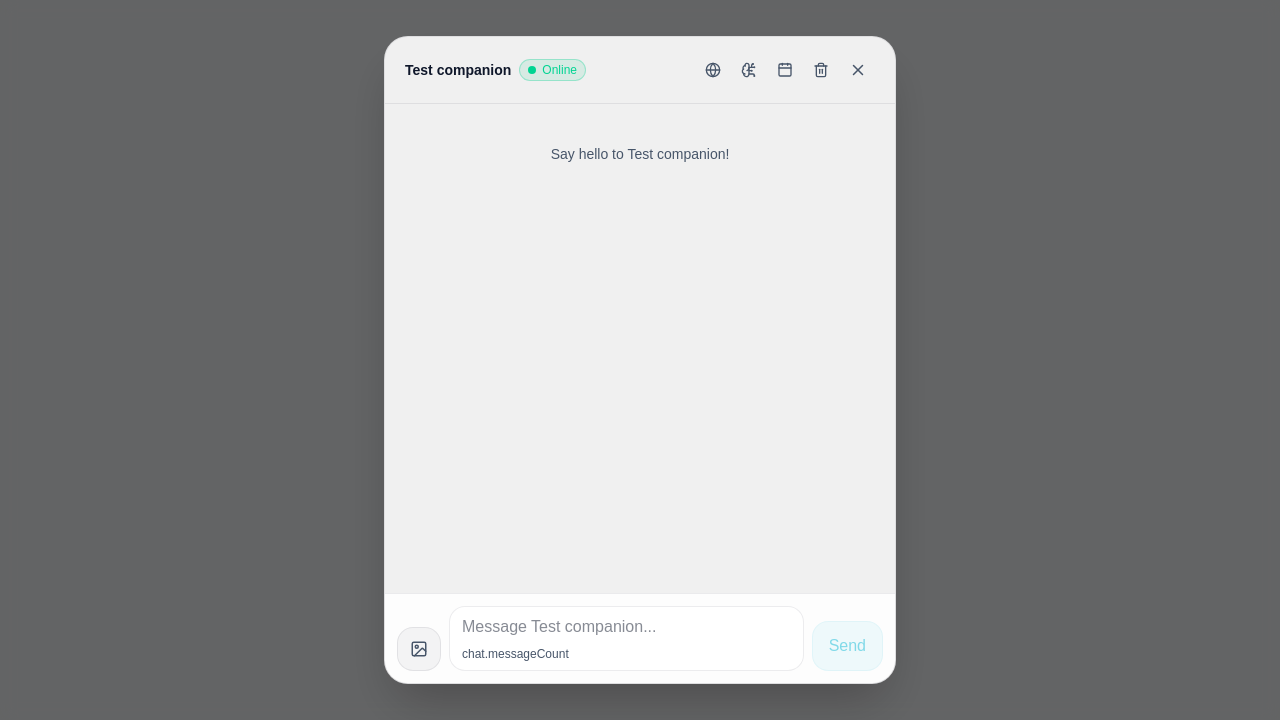
Test: global chat modal reminder availability › closes an open reminder panel immediately when disabled
The image size is (1280, 720).
Click the button named "Reminders" at [785, 70], box 769,54 -> 801,86
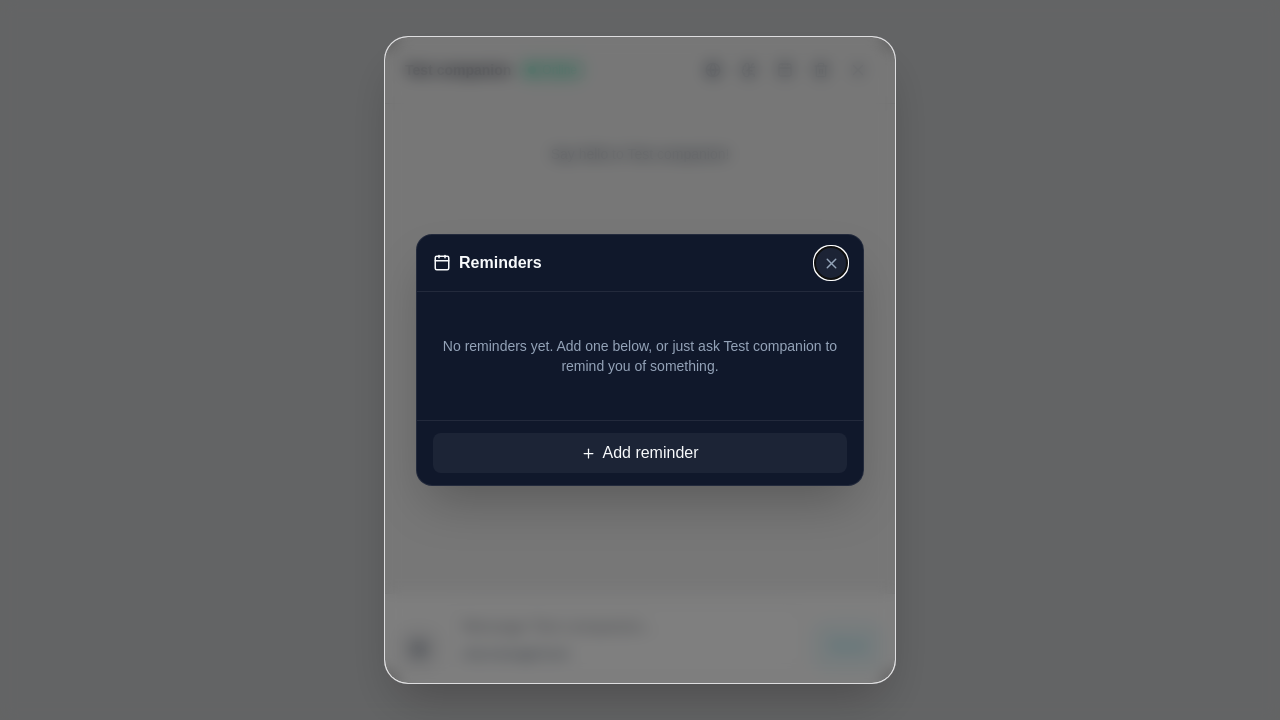
Now the dialog "Reminders" is shown, box 385,37 -> 895,683
